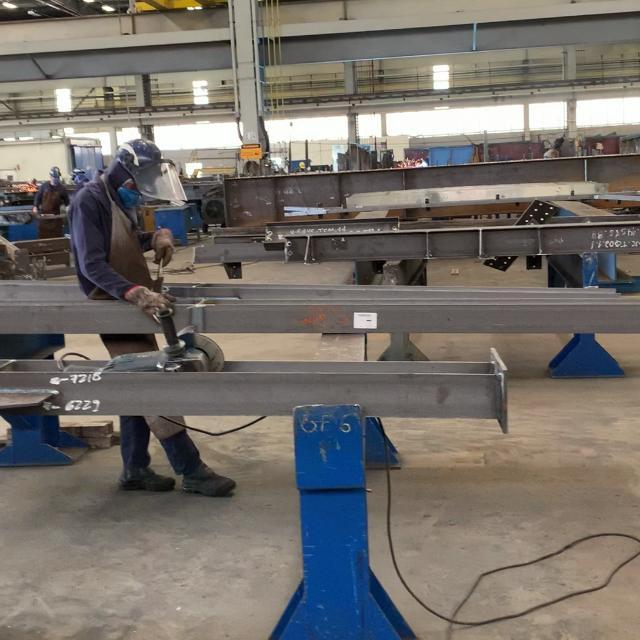eye-glass: (133, 161, 190, 203)
face-shield: (120, 286, 178, 324), (150, 229, 171, 267)
glove: (116, 139, 161, 166)
mask: (67, 137, 188, 327)
safety-shoe: (180, 466, 238, 498), (120, 465, 178, 493)
